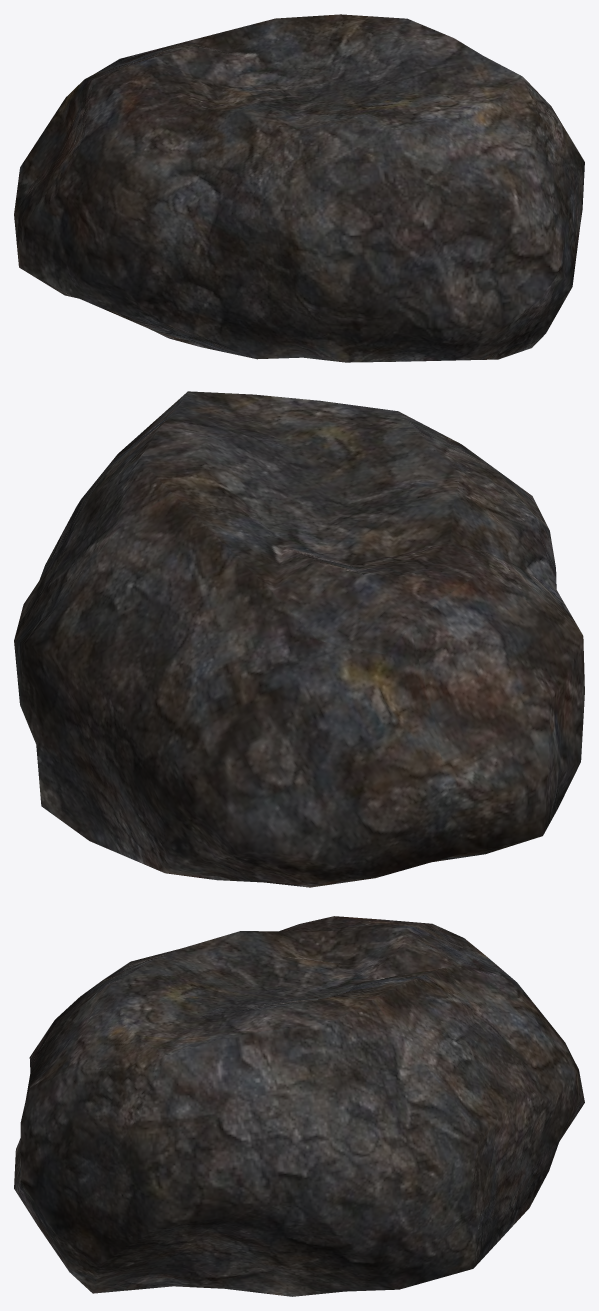
File: rock_02.dae
3 renders of one model, top to bottom at view 1: azimuth 30°, elevation 25°; view 2: azimuth 150°, elevation 25°; view 3: azimuth 270°, elevation 25°, orthographic. The views are drawn at different scales.
Visible parts, largest first — view 1: rock_02; view 2: rock_02; view 3: rock_02.
Part boxes in pixels (x1,y1,x2,y2): rock_02: (14,14,584,362); rock_02: (14,391,584,887); rock_02: (14,916,584,1296).
Size of the model in its own units: 1.03 by 1.06 by 0.5782.
1 material, 1 textured.
